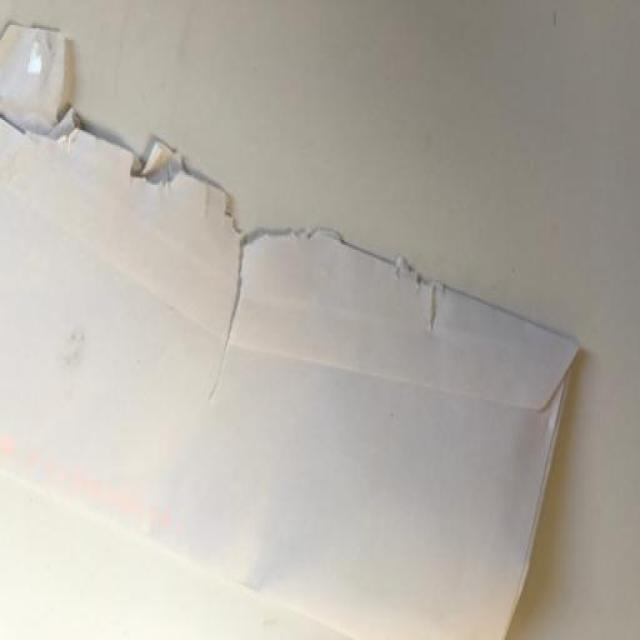paper: (0, 19, 581, 638)
